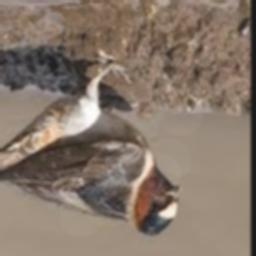Swallow: (0, 64, 181, 235)
